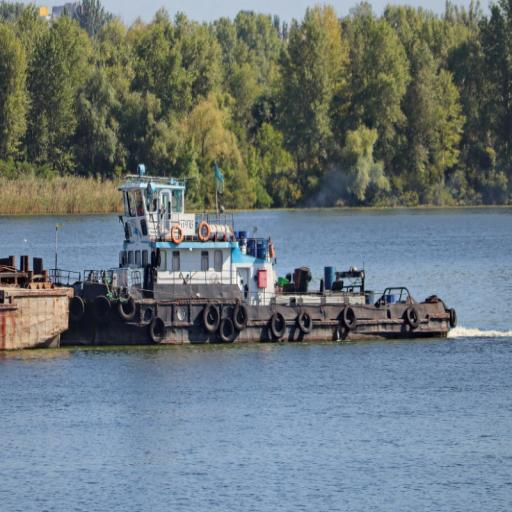tugboat: (71, 158, 459, 352)
